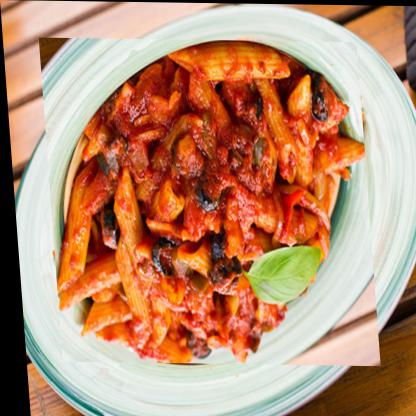pasta: (37, 37, 376, 366)
